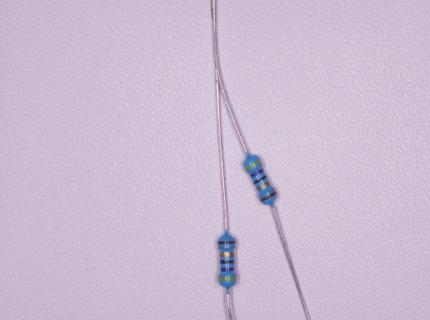Black band: (253, 175, 267, 185), (221, 260, 234, 264)
Brown band: (260, 191, 277, 202), (218, 241, 236, 245)
Gold band: (256, 181, 270, 191), (220, 252, 234, 257)
Violet band: (250, 168, 264, 178), (220, 268, 234, 271)
Yellow band: (245, 160, 261, 171), (219, 277, 236, 281)
